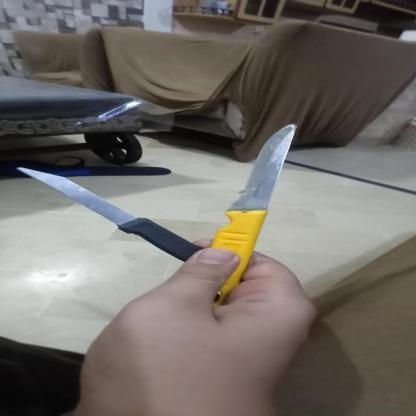Knife: (16, 167, 204, 259), (205, 124, 296, 307)
